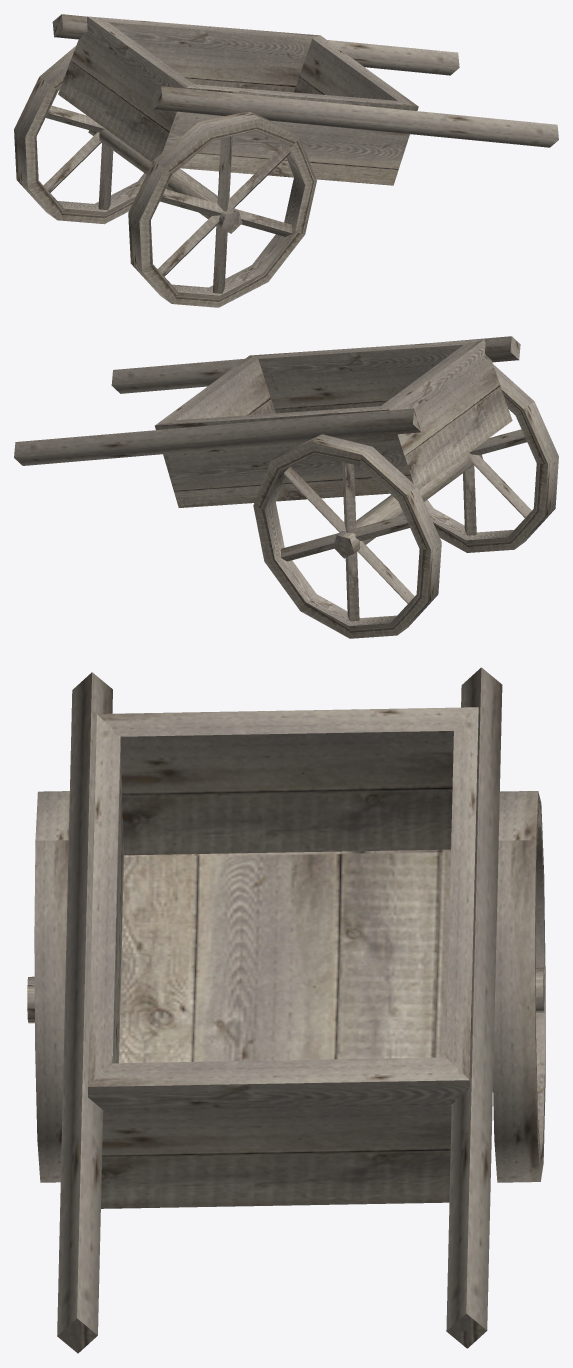
Rendered from carro.glb.
The picture shows the model from 3 angles, top to bottom: view 1: azimuth 30°, elevation 25°; view 2: azimuth 150°, elevation 25°; view 3: azimuth 270°, elevation 25°; orthographic projection. The views are drawn at different scales.
Parts seen in each view (by area): view 1: Modelo; view 2: Modelo; view 3: Modelo.
Boxes of the visible parts, x1,y1,x2,y2 form: Modelo: [14, 14, 558, 307]; Modelo: [14, 336, 558, 638]; Modelo: [27, 667, 545, 1353].
Bounding box in the file's own units: 1.67 × 0.8393 × 0.876.
Materials: 1 (1 with a texture image).
